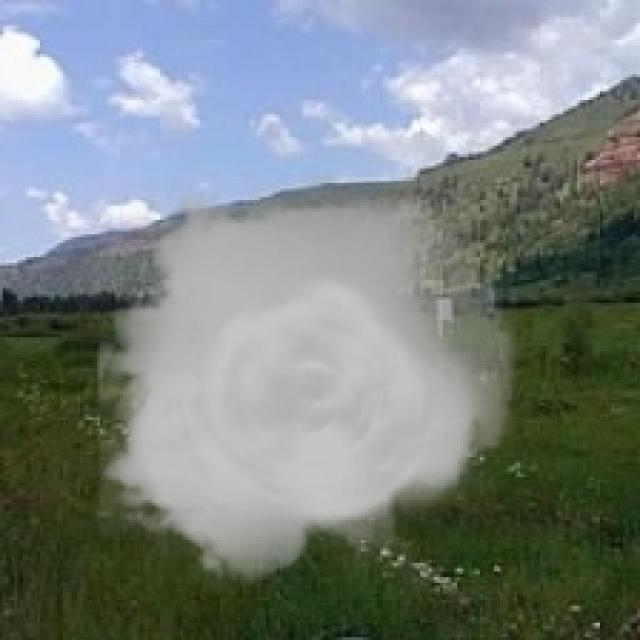Smoke: (97, 175, 517, 594)
